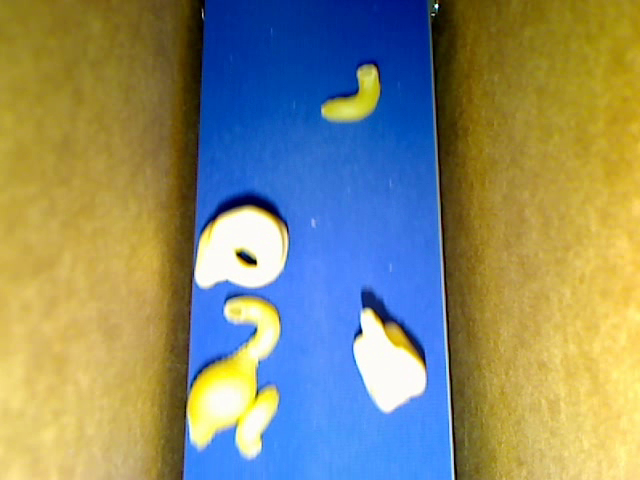elbow: (223, 296, 279, 360), (321, 64, 380, 121), (234, 385, 278, 460)
shell: (187, 344, 258, 447)
tortellini: (351, 307, 426, 413), (194, 206, 287, 290)
